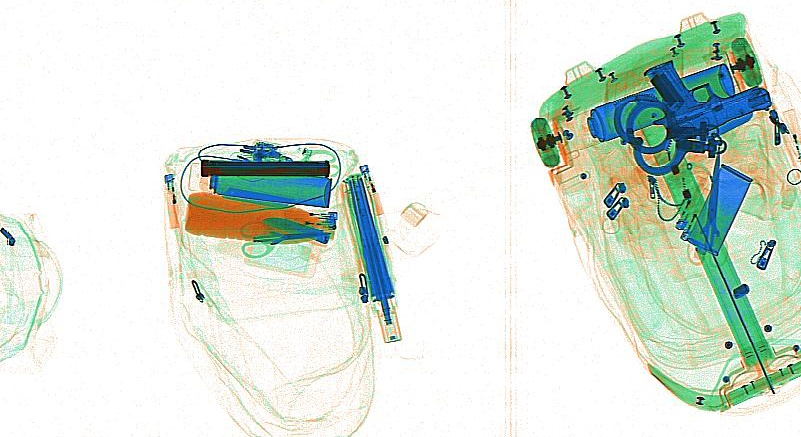handcuffs: (611, 91, 727, 176)
knife: (632, 107, 753, 173), (253, 212, 330, 245), (220, 186, 290, 209)
lighter: (674, 173, 709, 230), (679, 186, 713, 242), (357, 163, 384, 216), (161, 172, 182, 229), (782, 106, 799, 163), (283, 214, 336, 229), (284, 207, 338, 220)
pressure: (556, 62, 736, 155), (187, 159, 332, 208)
scissors: (686, 143, 729, 267), (239, 219, 333, 257)
zippooil: (685, 163, 753, 255)
